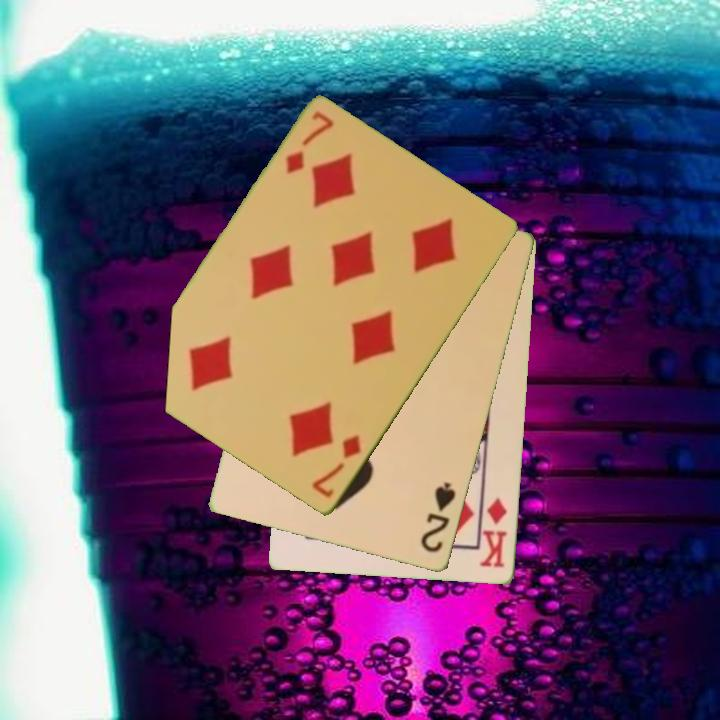2s: (417, 479, 459, 556)
7d: (308, 432, 365, 502), (282, 107, 337, 178)
Kd: (477, 494, 511, 571)
